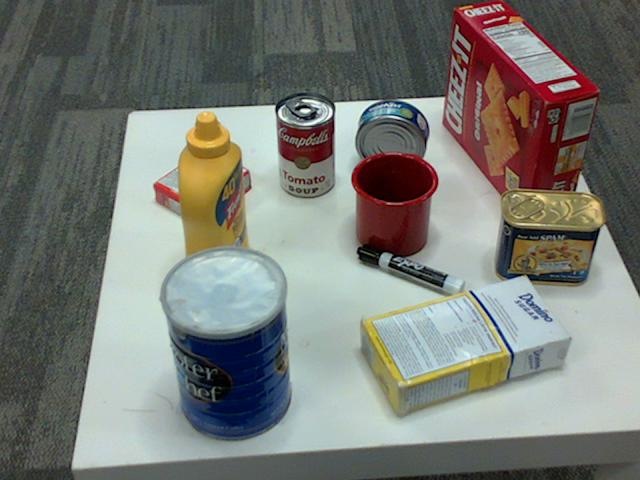cracker_box: (442, 0, 599, 221)
gelatin_box: (151, 145, 250, 222)
large_marker: (357, 244, 465, 301)
master_chef_can: (157, 248, 290, 444)
mug: (348, 150, 436, 255)
mustard_bottle: (175, 111, 248, 296)
potted_meat_can: (493, 189, 604, 286)
sugar_box: (356, 274, 568, 415)
tomato_soup_can: (274, 92, 335, 198)
tuna_fish_can: (353, 99, 428, 173)
